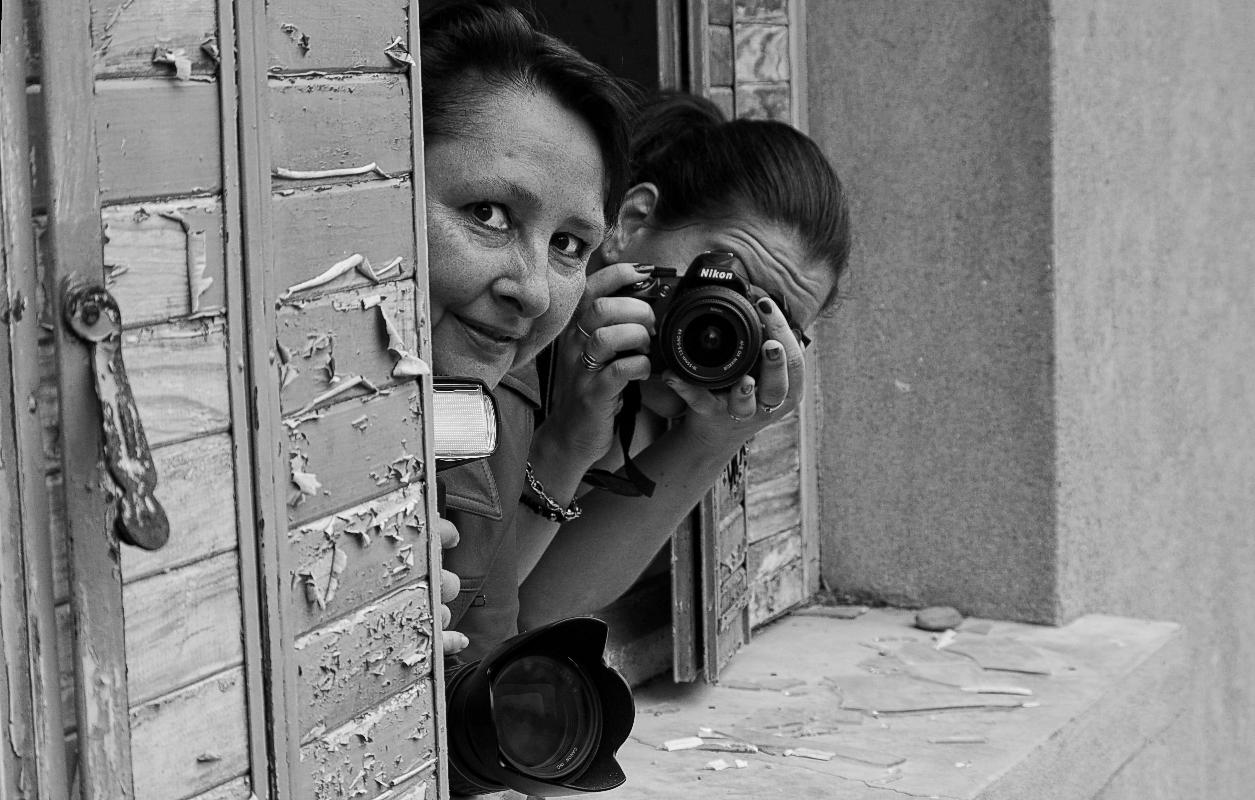Person: (613, 75, 832, 616), (426, 19, 598, 647)
